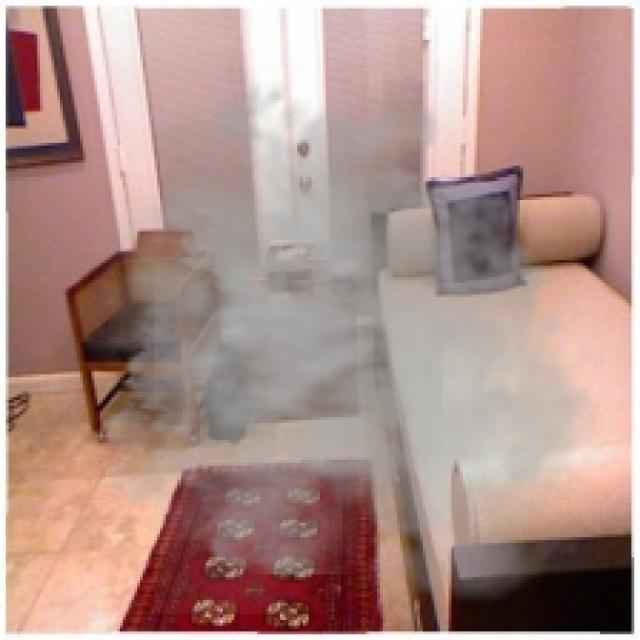smoke: (57, 66, 617, 614)
